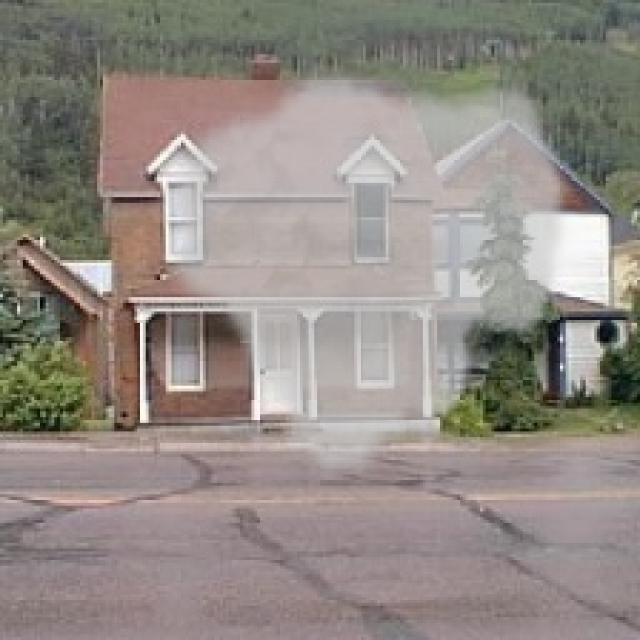smoke: (157, 68, 574, 486)
